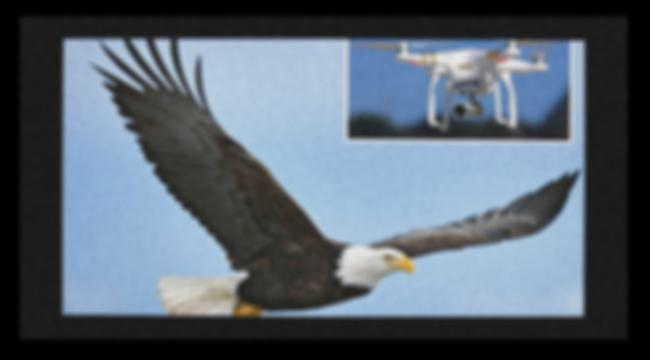Bird: (77, 32, 586, 320)
UAV: (357, 29, 557, 135)
